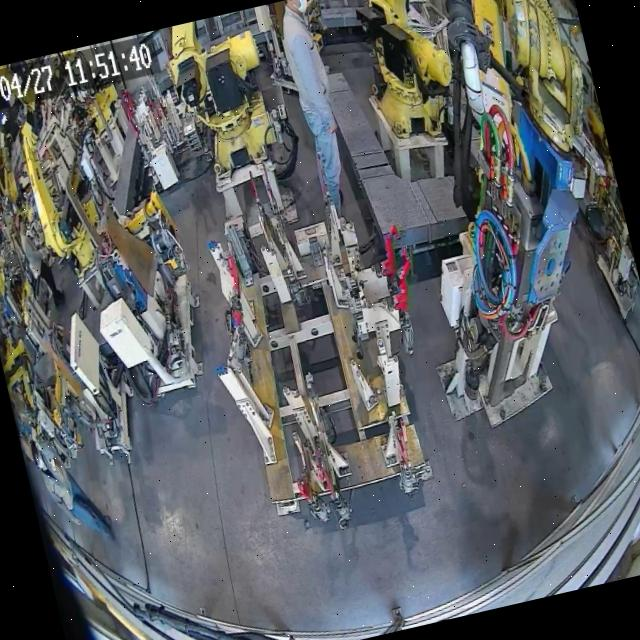Person: (273, 0, 359, 222)
